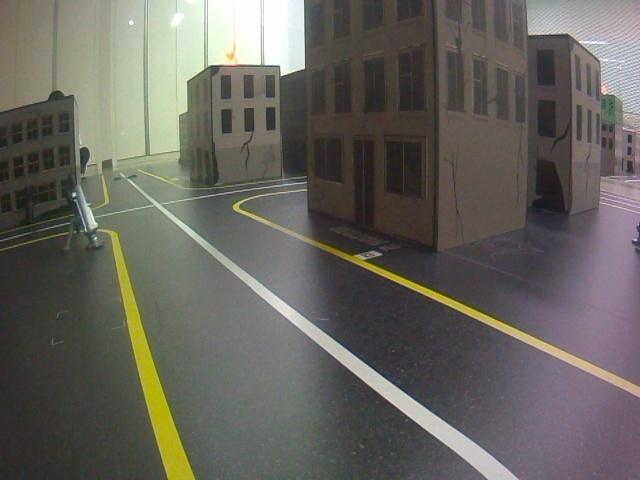Mortar: (57, 175, 106, 252)
